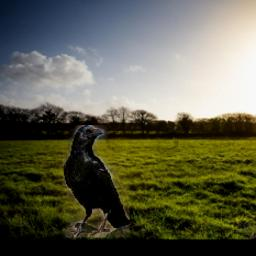Crow: (64, 125, 131, 238)
